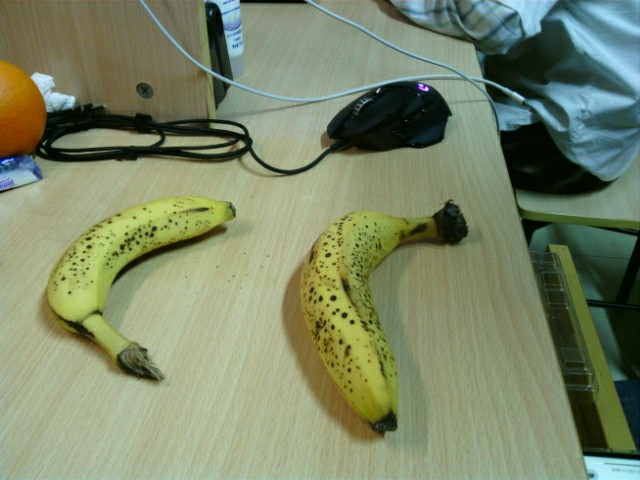normal_banana: (300, 199, 468, 432), (46, 195, 236, 382)
